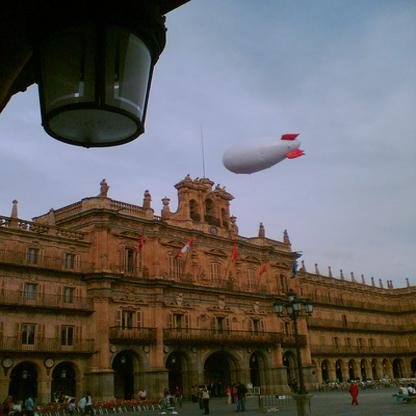Airship: (221, 131, 308, 176)
